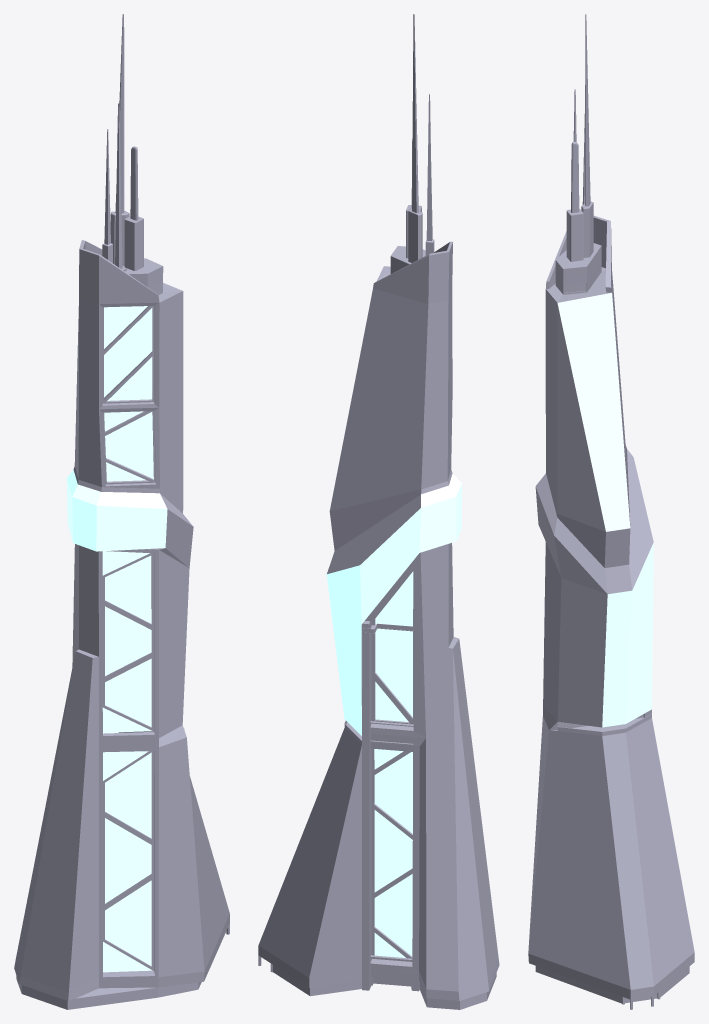
The model's file is mrakodrap3.fbx.
The picture shows the model from 3 angles, left to right: view 1: azimuth 30°, elevation 25°; view 2: azimuth 150°, elevation 25°; view 3: azimuth 270°, elevation 25°; orthographic projection. The views are drawn at different scales.
Visible parts, largest first — view 1: Cube.003; view 2: Cube.003; view 3: Cube.003.
Boxes of the visible parts, box(x1,y1,x2,y2) form: Cube.003: box(14, 14, 229, 1009); Cube.003: box(258, 14, 499, 1009); Cube.003: box(528, 14, 694, 1009).
Size of the model in its own units: 274 by 1152 by 186.
